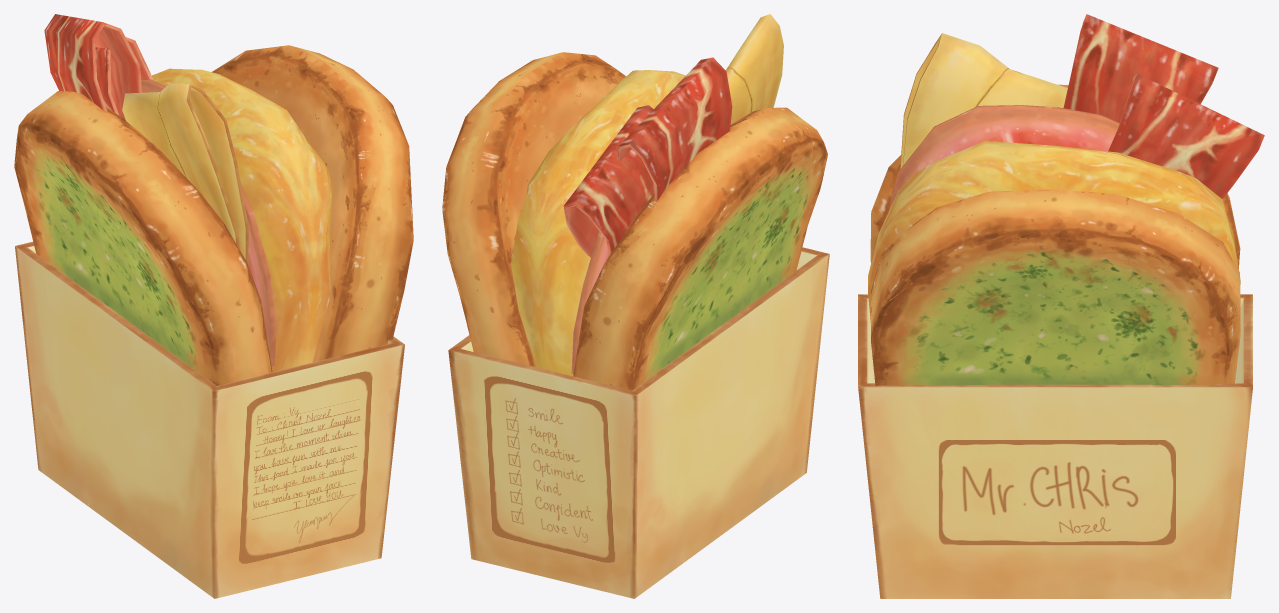
Rendered from breakfastchris.glb.
The picture shows the model from 3 angles, left to right: view 1: azimuth 30°, elevation 25°; view 2: azimuth 150°, elevation 25°; view 3: azimuth 270°, elevation 25°; orthographic projection. The views are drawn at different scales.
Parts seen in each view (by area): view 1: Cube, Plane.004, Plane.003, Circle.003, Circle.000, Circle.004, Circle.001; view 2: Cube, Plane.004, Plane.003, Circle.000, Circle.001, Circle.003, Circle.004; view 3: Cube, Plane.004, Plane.003, Circle.001, Circle.003, Circle.000, Circle.004.
Part boxes in pixels (x1,y1,x2,y2): Cube: [15, 241, 404, 598]; Plane.004: [14, 45, 413, 385]; Plane.003: [152, 68, 332, 372]; Circle.003: [122, 83, 248, 265]; Circle.000: [44, 14, 141, 120]; Circle.004: [141, 79, 276, 366]; Circle.001: [95, 37, 152, 115]; Cube: [448, 247, 829, 598]; Plane.004: [442, 52, 827, 390]; Plane.003: [511, 70, 685, 375]; Circle.000: [617, 57, 732, 200]; Circle.001: [563, 105, 654, 257]; Circle.003: [726, 14, 783, 124]; Circle.004: [571, 231, 609, 373]; Cube: [858, 294, 1252, 598]; Plane.004: [870, 84, 1240, 385]; Plane.003: [868, 141, 1240, 322]; Circle.001: [1108, 73, 1264, 199]; Circle.003: [900, 33, 1067, 168]; Circle.000: [1063, 14, 1218, 122]; Circle.004: [888, 105, 1119, 211].
Bounding box in the file's own units: 1.7 × 2.79 × 2.06.
6 materials, 6 textured.
